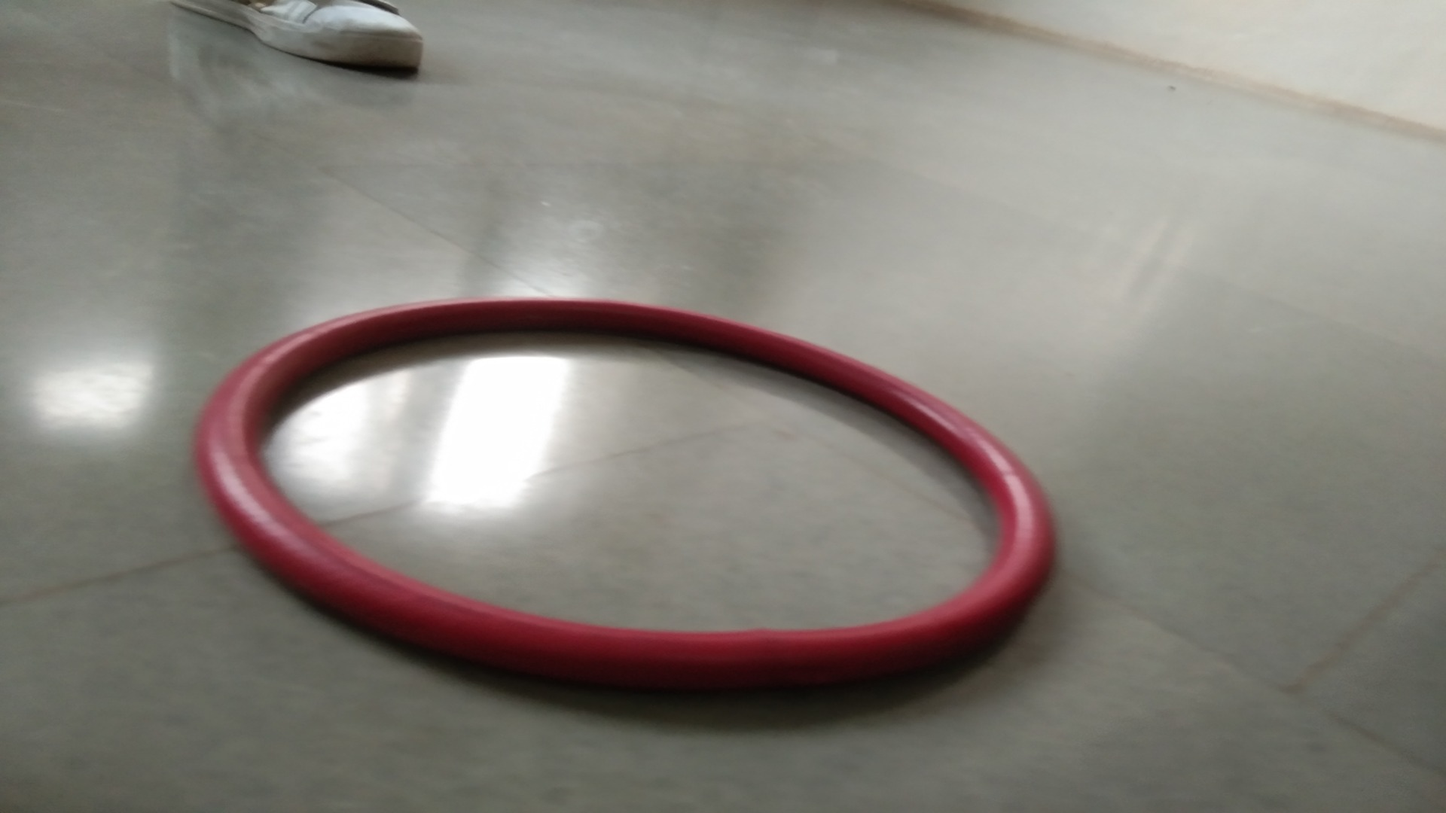Red ring: (194, 296, 1057, 693)
